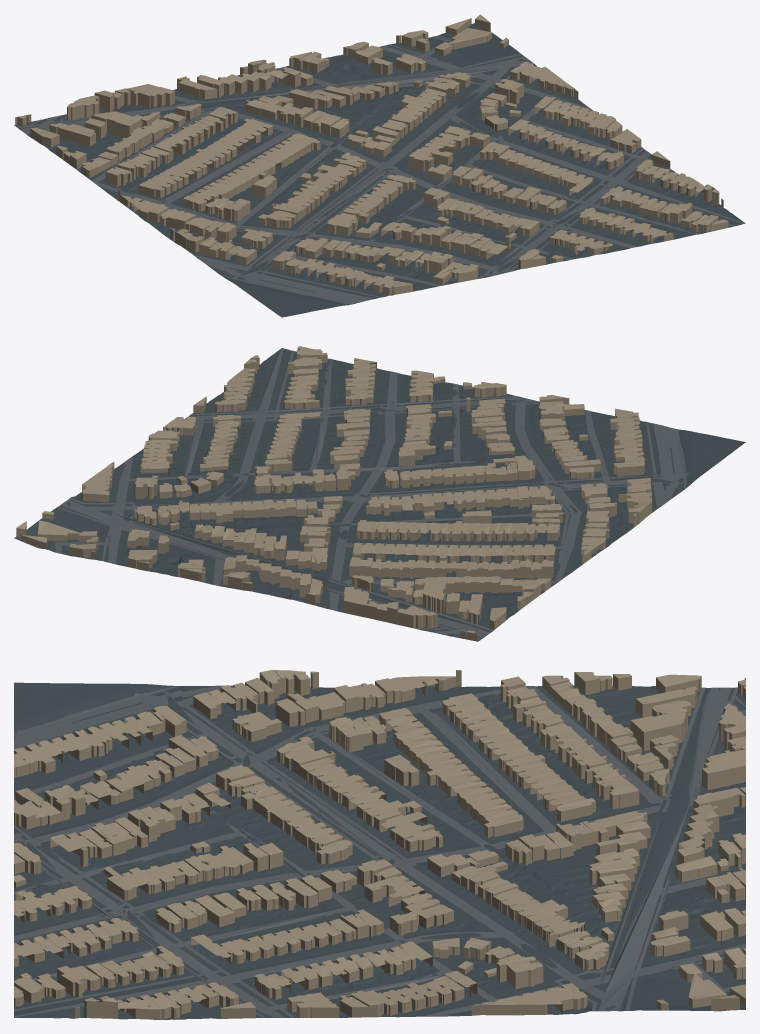
File: epsg26910-1430-10873.lod0.glb
3 views of the same model, one above another, from view 1: azimuth 30°, elevation 25°; view 2: azimuth 150°, elevation 25°; view 3: azimuth 270°, elevation 25° (orthographic). The views are drawn at different scales.
Parts seen in each view (by area): view 1: epsg26910-1430-10873-lod0; view 2: epsg26910-1430-10873-lod0; view 3: epsg26910-1430-10873-lod0.
Boxes of the visible parts, <box> form: epsg26910-1430-10873-lod0: <box>14,14,745,317</box>; epsg26910-1430-10873-lod0: <box>14,346,745,641</box>; epsg26910-1430-10873-lod0: <box>14,670,745,1019</box>.
Size of the model in its own units: 384 by 23.55 by 384.
